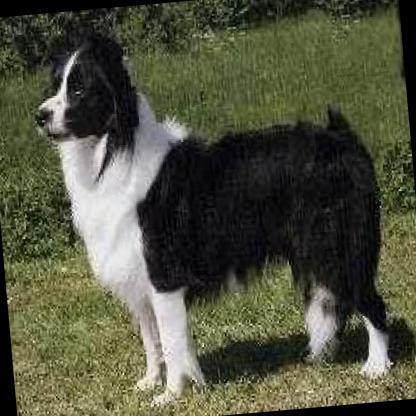Border_collie: (24, 4, 402, 411)
